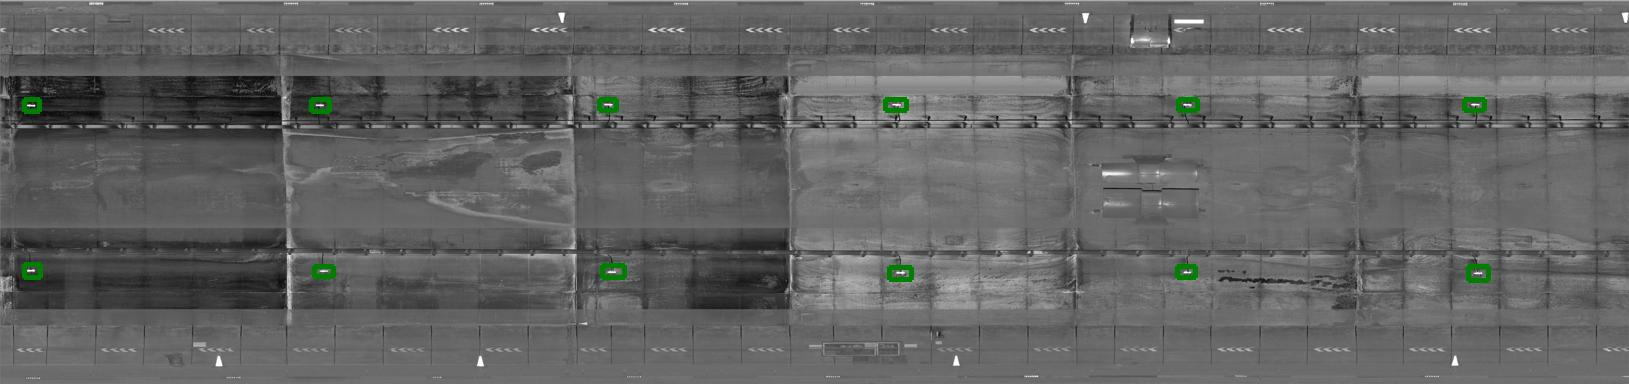light: (1467, 266, 1489, 282), (1175, 265, 1197, 280), (888, 267, 910, 281), (885, 97, 907, 110), (19, 97, 38, 111), (313, 266, 333, 278), (312, 95, 329, 110), (20, 265, 38, 278), (600, 266, 620, 278), (598, 97, 617, 109), (1178, 97, 1193, 112), (1467, 99, 1483, 112)
